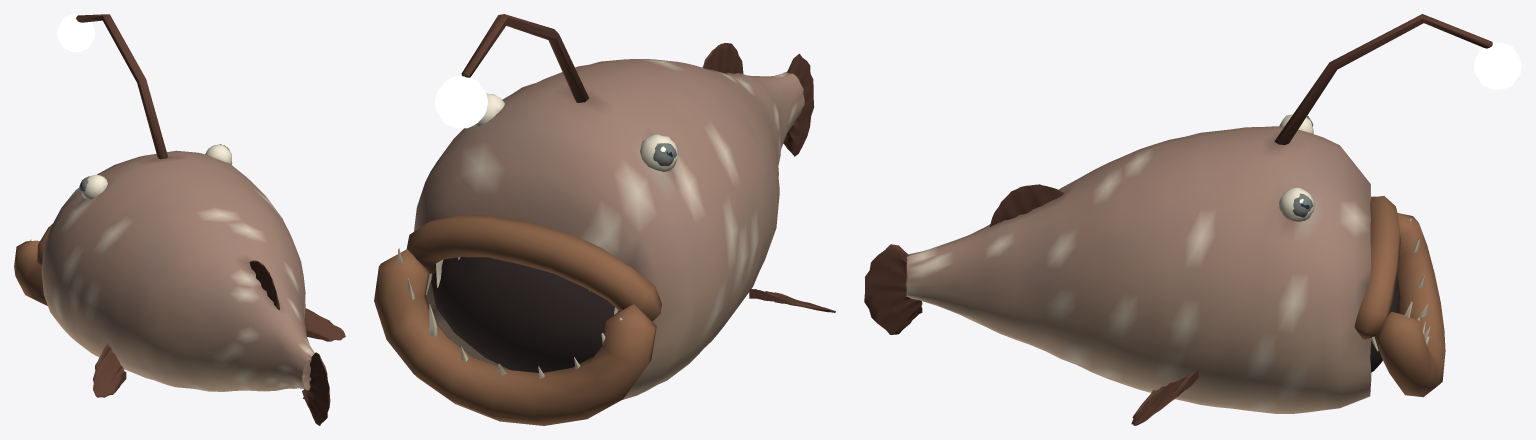
Rendered from angler.glb.
3 views of the same model, side by side, from view 1: azimuth 30°, elevation 25°; view 2: azimuth 150°, elevation 25°; view 3: azimuth 270°, elevation 25° (orthographic). The views are drawn at different scales.
Visible parts, largest first — view 1: angler; view 2: angler; view 3: angler.
Part boxes in pixels (<box>): angler: <box>14,14,345,425</box>; angler: <box>374,14,835,425</box>; angler: <box>864,14,1521,425</box>.
Bounding box in the file's own units: 0.4813 × 0.5666 × 0.8794.
